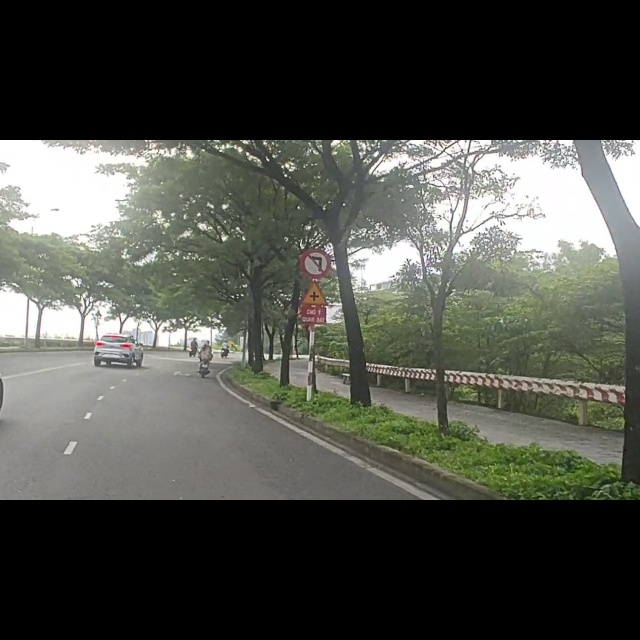bien_cam: (302, 188, 333, 249), (296, 245, 331, 296)
